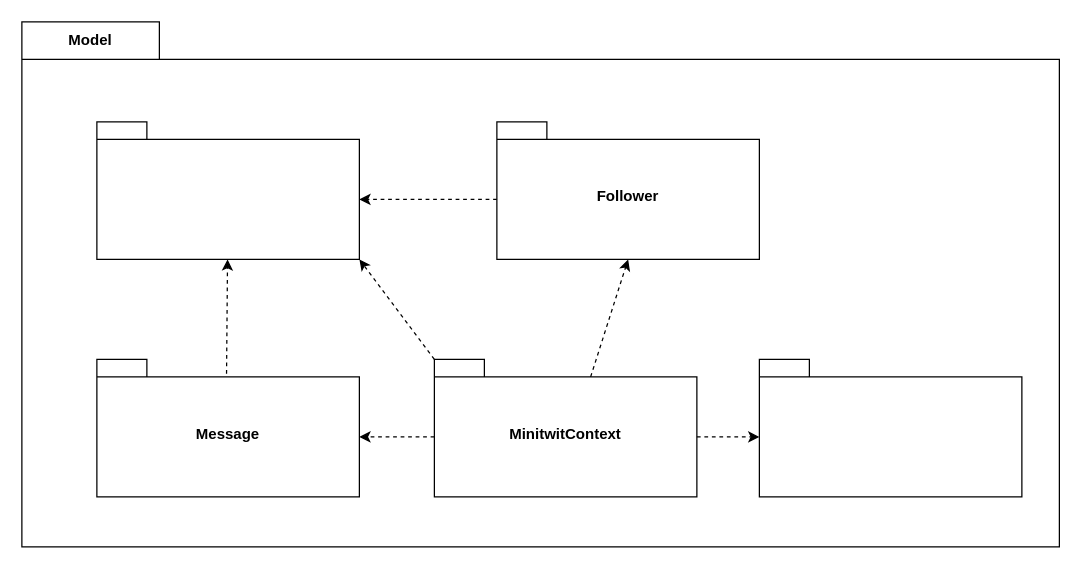
The diagram is 1081 pixels wide and 569 high, and some of its shapes have lost their labels. Each missing label, with the box of its shape:
Latest: (758, 358, 1022, 497)
User: (96, 121, 359, 259)
